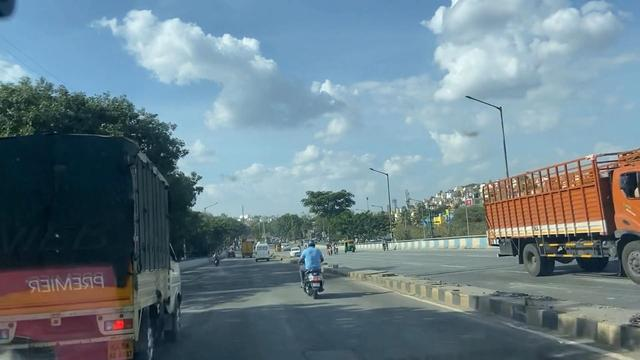HMV: (0, 135, 188, 360)
LMV: (295, 242, 324, 293)
RoadDamages: (293, 326, 353, 360)
